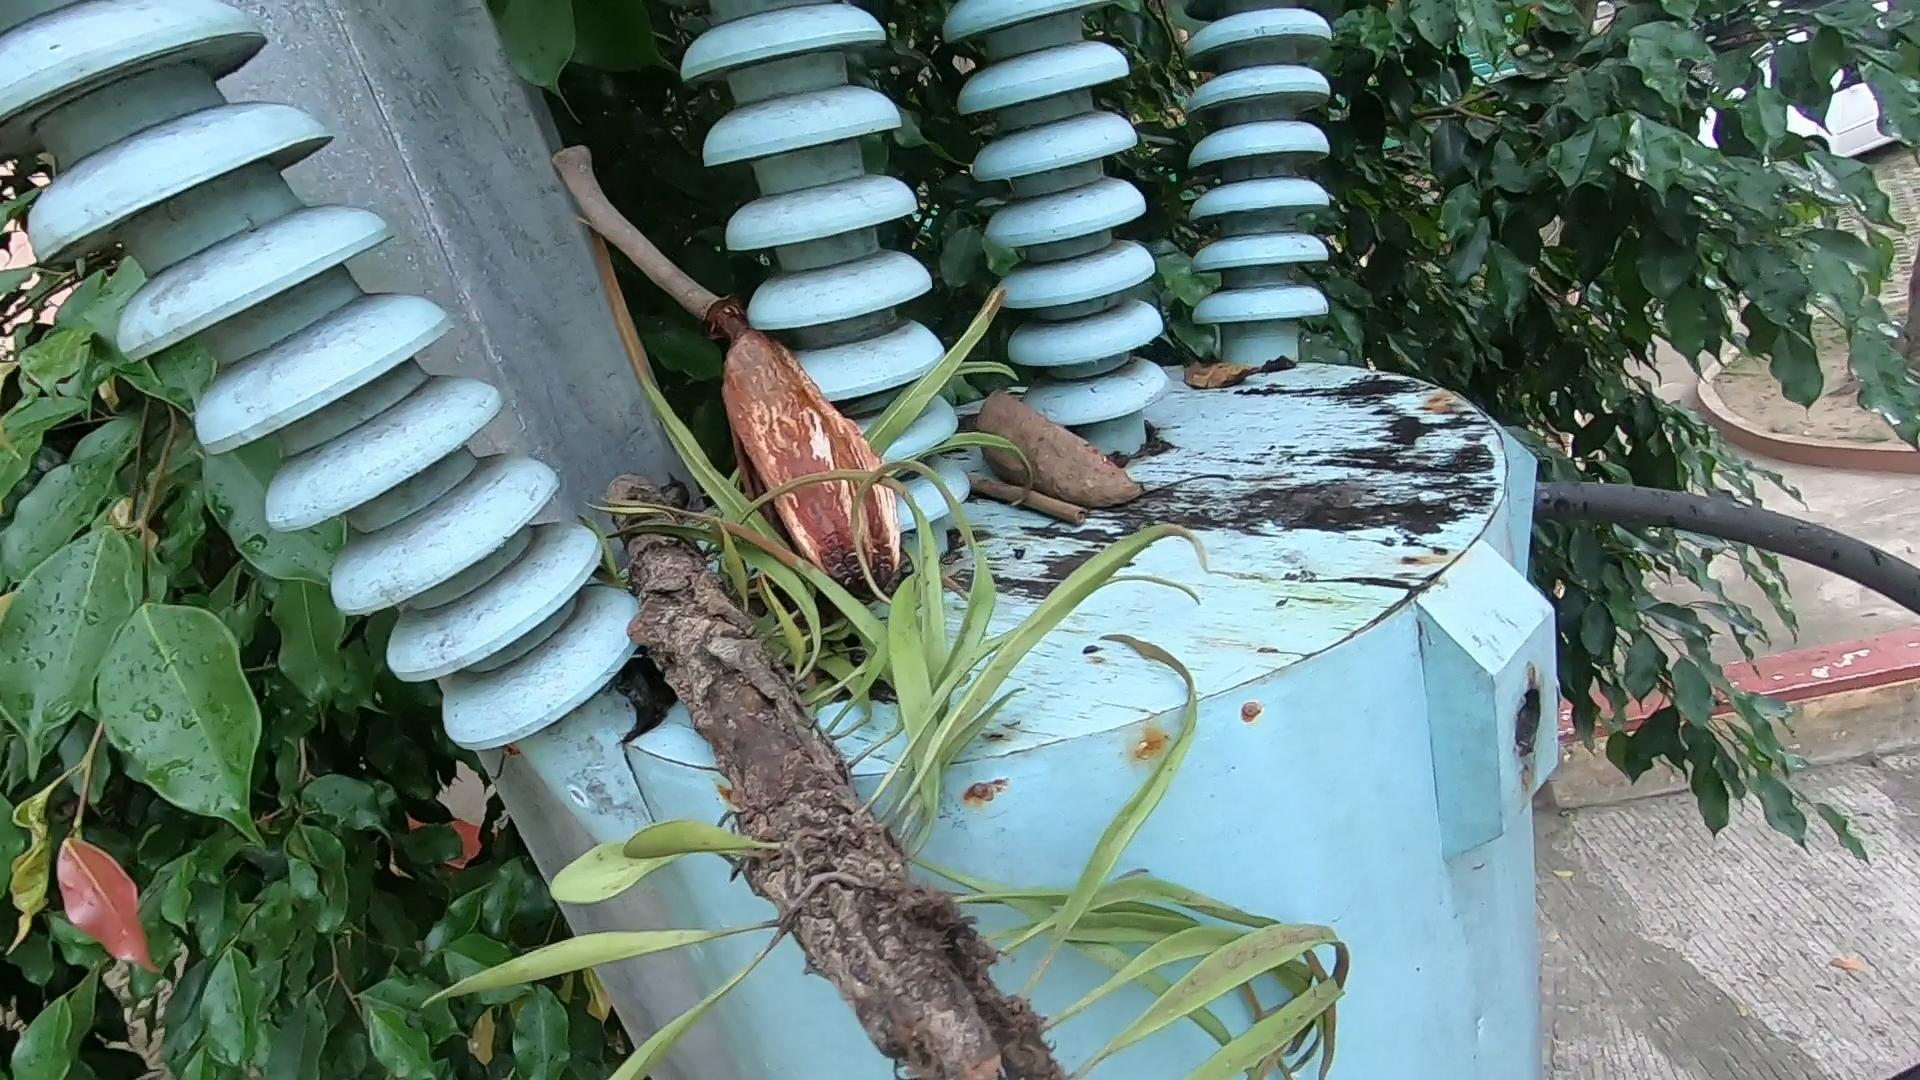branch with leaves: (553, 458, 1036, 1013)
leaf: (1174, 282, 1312, 448)
mahogany fruit: (709, 326, 920, 588), (971, 371, 1143, 549)
tree branch: (527, 117, 724, 340), (953, 417, 1104, 521)
